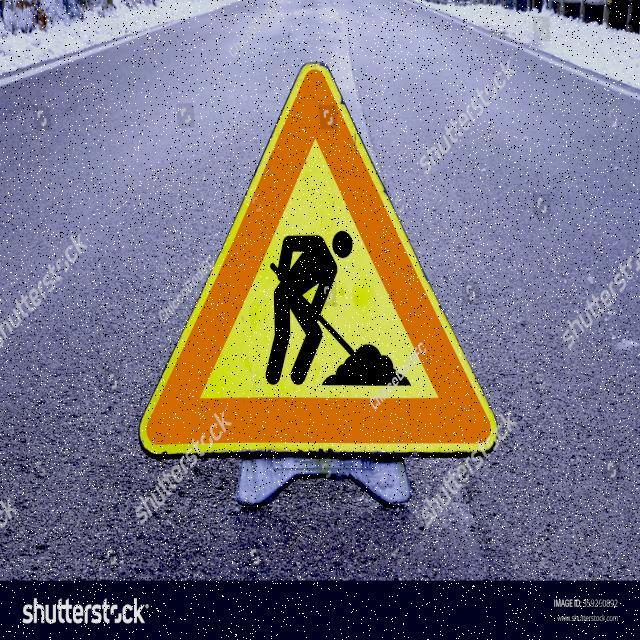Traffic sign: (129, 53, 506, 472)
